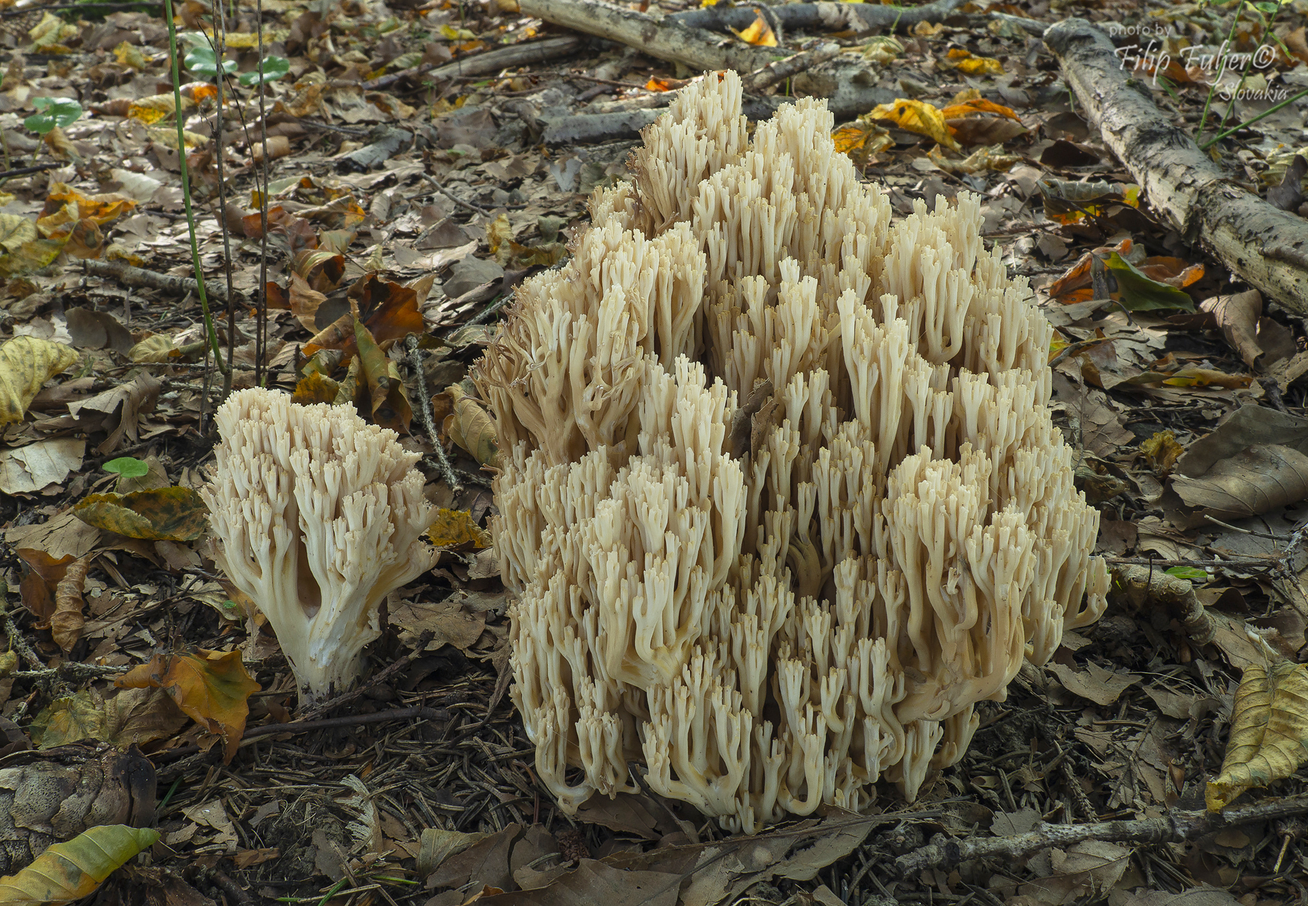Coral: (470, 73, 1107, 833), (199, 387, 436, 701)
